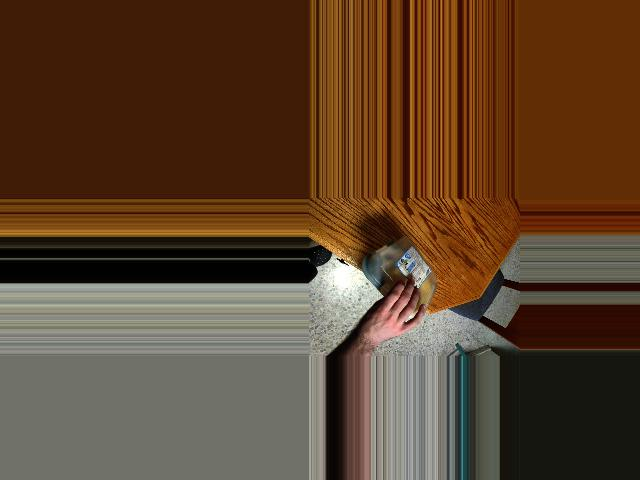cheese: (365, 235, 440, 329)
